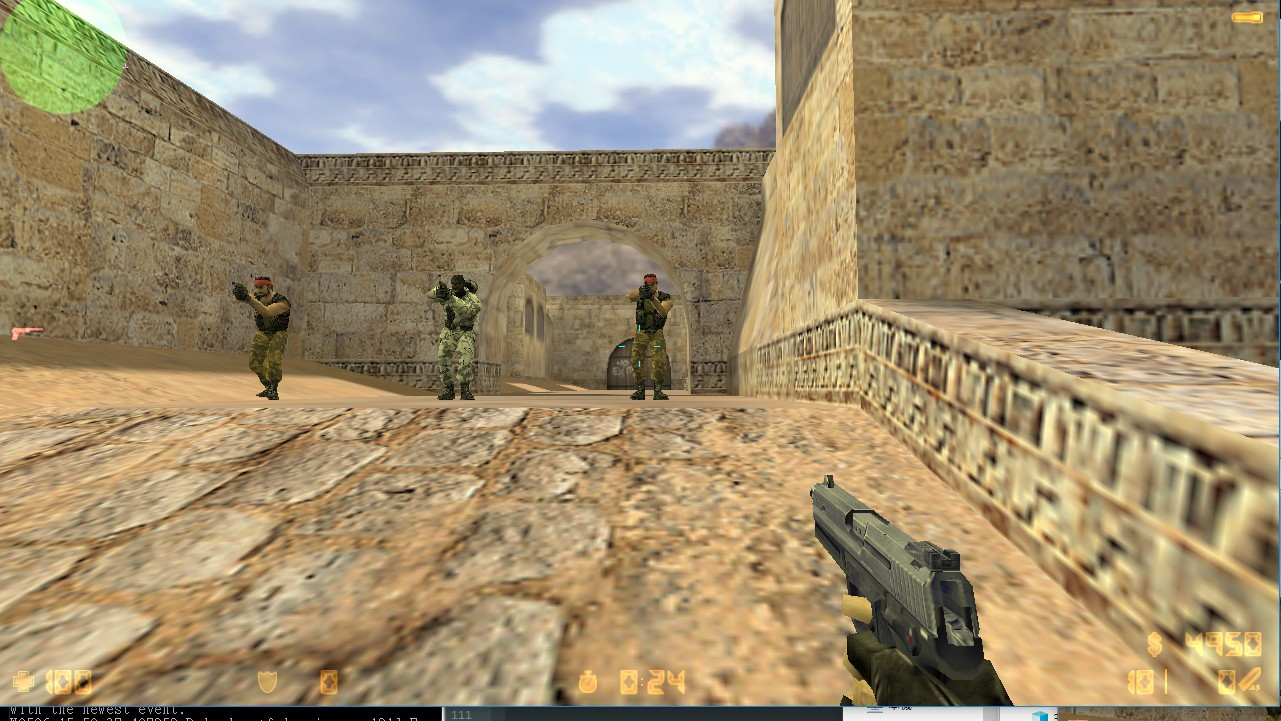person: (423, 271, 483, 402), (624, 268, 679, 401), (232, 272, 285, 399)
